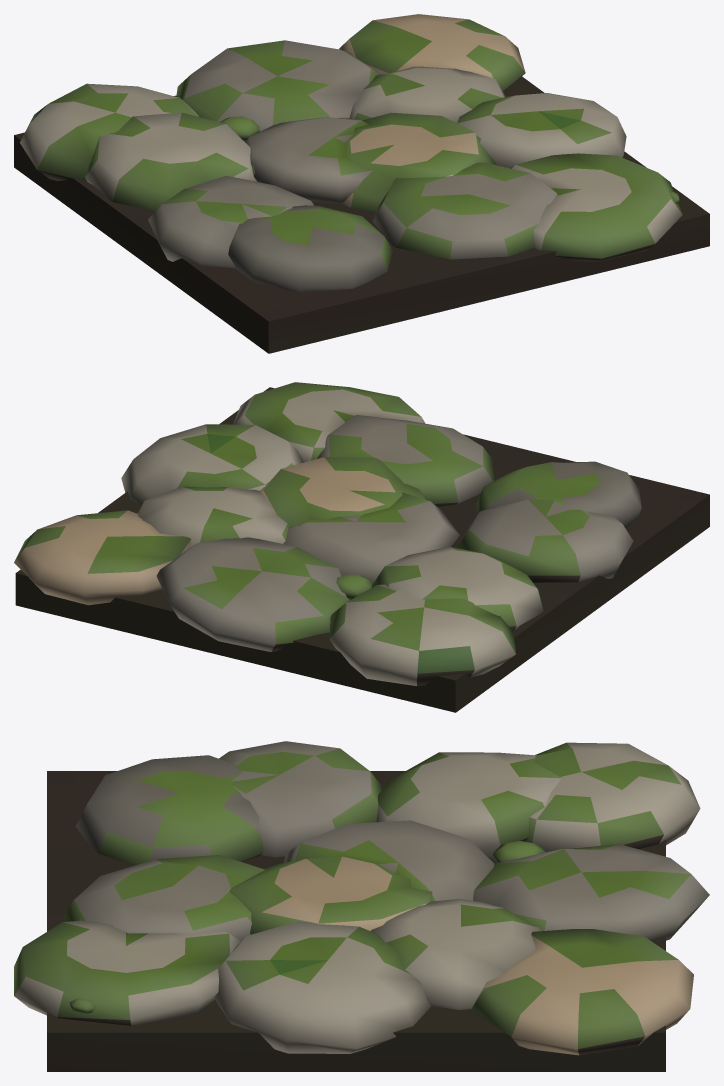
The model's file is kit_corr3.glb.
3 views of the same model, one above another, from view 1: azimuth 30°, elevation 25°; view 2: azimuth 150°, elevation 25°; view 3: azimuth 270°, elevation 25° (orthographic). The views are drawn at different scales.
Visible parts, largest first — view 1: kit_corr3; view 2: kit_corr3; view 3: kit_corr3.
Part boxes in pixels (x1=…): kit_corr3: x1=14, y1=14, x2=709, y2=353; kit_corr3: x1=14, y1=382, x2=709, y2=712; kit_corr3: x1=14, y1=741, x2=709, y2=1071.
Size of the model in its own units: 1.1 by 0.1404 by 1.12.
